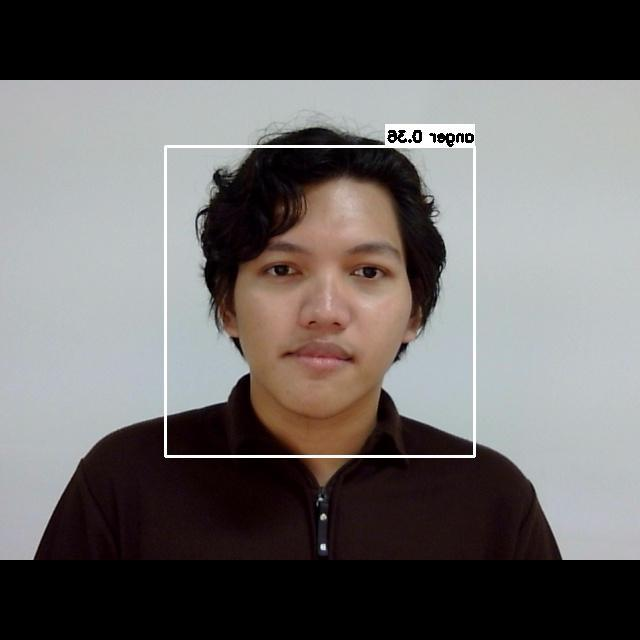Natural: (236, 217, 416, 428)
